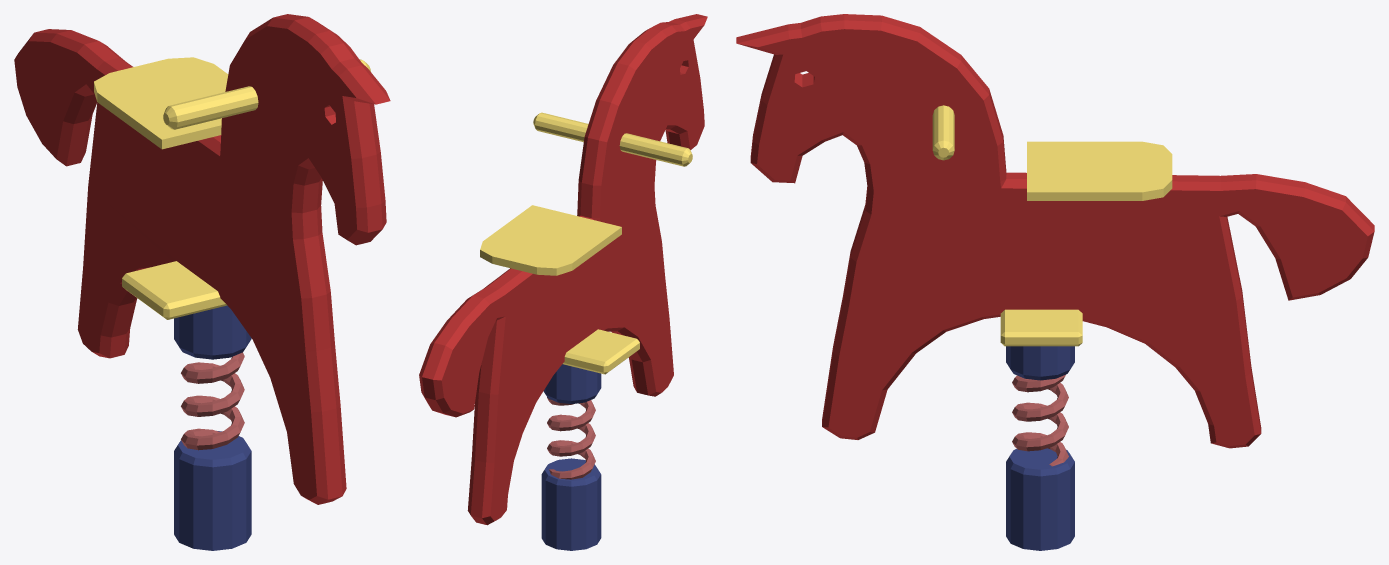
Rendered from Children_Horse.fbx.
3 renders of one model, left to right at view 1: azimuth 30°, elevation 25°; view 2: azimuth 150°, elevation 25°; view 3: azimuth 270°, elevation 25°, orthographic. The views are drawn at different scales.
Parts seen in each view (by area): view 1: Children_Horse; view 2: Children_Horse; view 3: Children_Horse.
Boxes of the visible parts, x1,y1,x2,y2 form: Children_Horse: (14, 14, 390, 550); Children_Horse: (419, 14, 707, 550); Children_Horse: (736, 14, 1374, 550).
Bounding box in the file's own units: 38.88 × 120 × 107.
